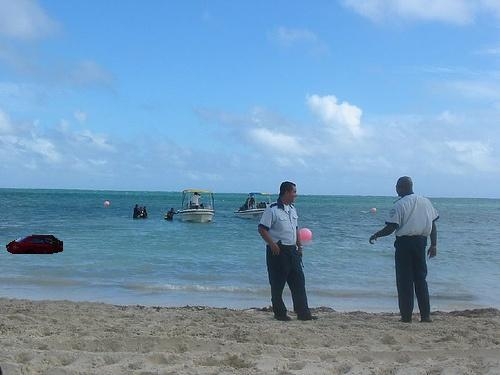tampered: (7, 236, 63, 254)
